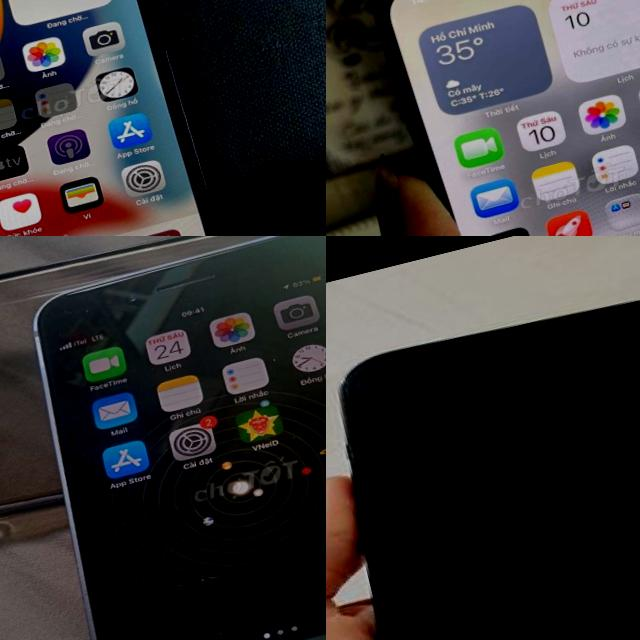scratch: (86, 482, 212, 608), (204, 622, 228, 640), (69, 298, 91, 316)
